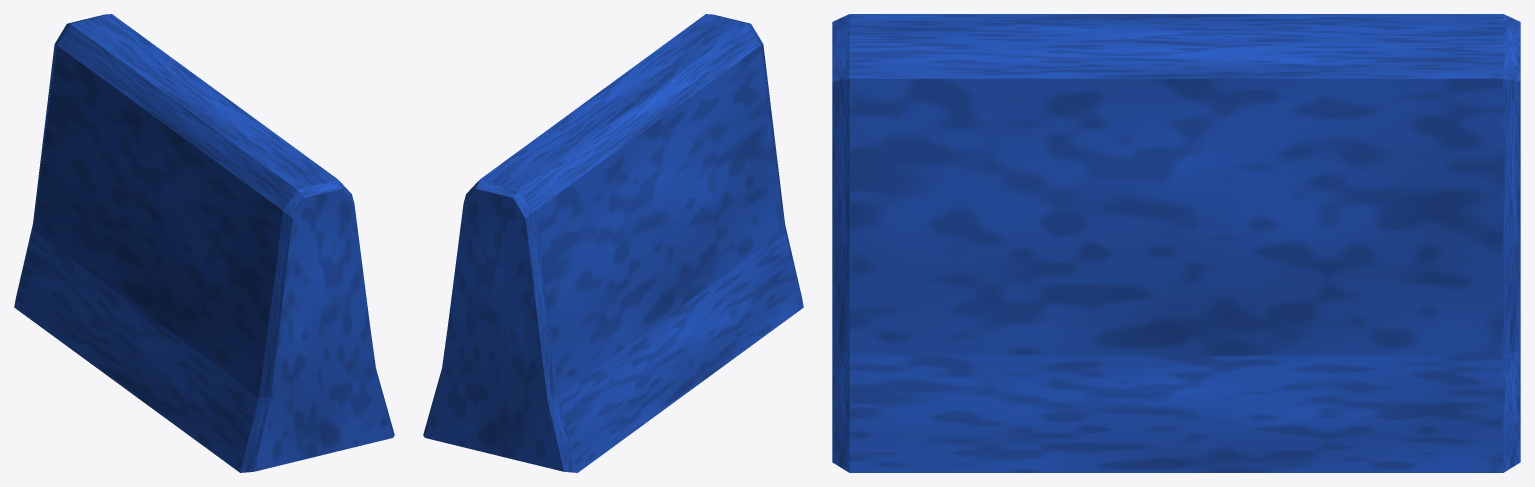
Rendered from SM_Morin_NJPlastica_Blu_LOD2.fbx.
3 views of the same model, side by side, from view 1: azimuth 30°, elevation 25°; view 2: azimuth 150°, elevation 25°; view 3: azimuth 270°, elevation 25° (orthographic). The views are drawn at different scales.
Visible parts, largest first — view 1: SM_Morin_NJPlastica_Blu_LOD2; view 2: SM_Morin_NJPlastica_Blu_LOD2; view 3: SM_Morin_NJPlastica_Blu_LOD2.
Boxes of the visible parts, x1,y1,x2,y2 form: SM_Morin_NJPlastica_Blu_LOD2: [14, 14, 394, 472]; SM_Morin_NJPlastica_Blu_LOD2: [423, 14, 803, 472]; SM_Morin_NJPlastica_Blu_LOD2: [832, 14, 1520, 472].
Size of the model in its own units: 45 by 120 by 75.
Materials: 1 (1 with a texture image).
